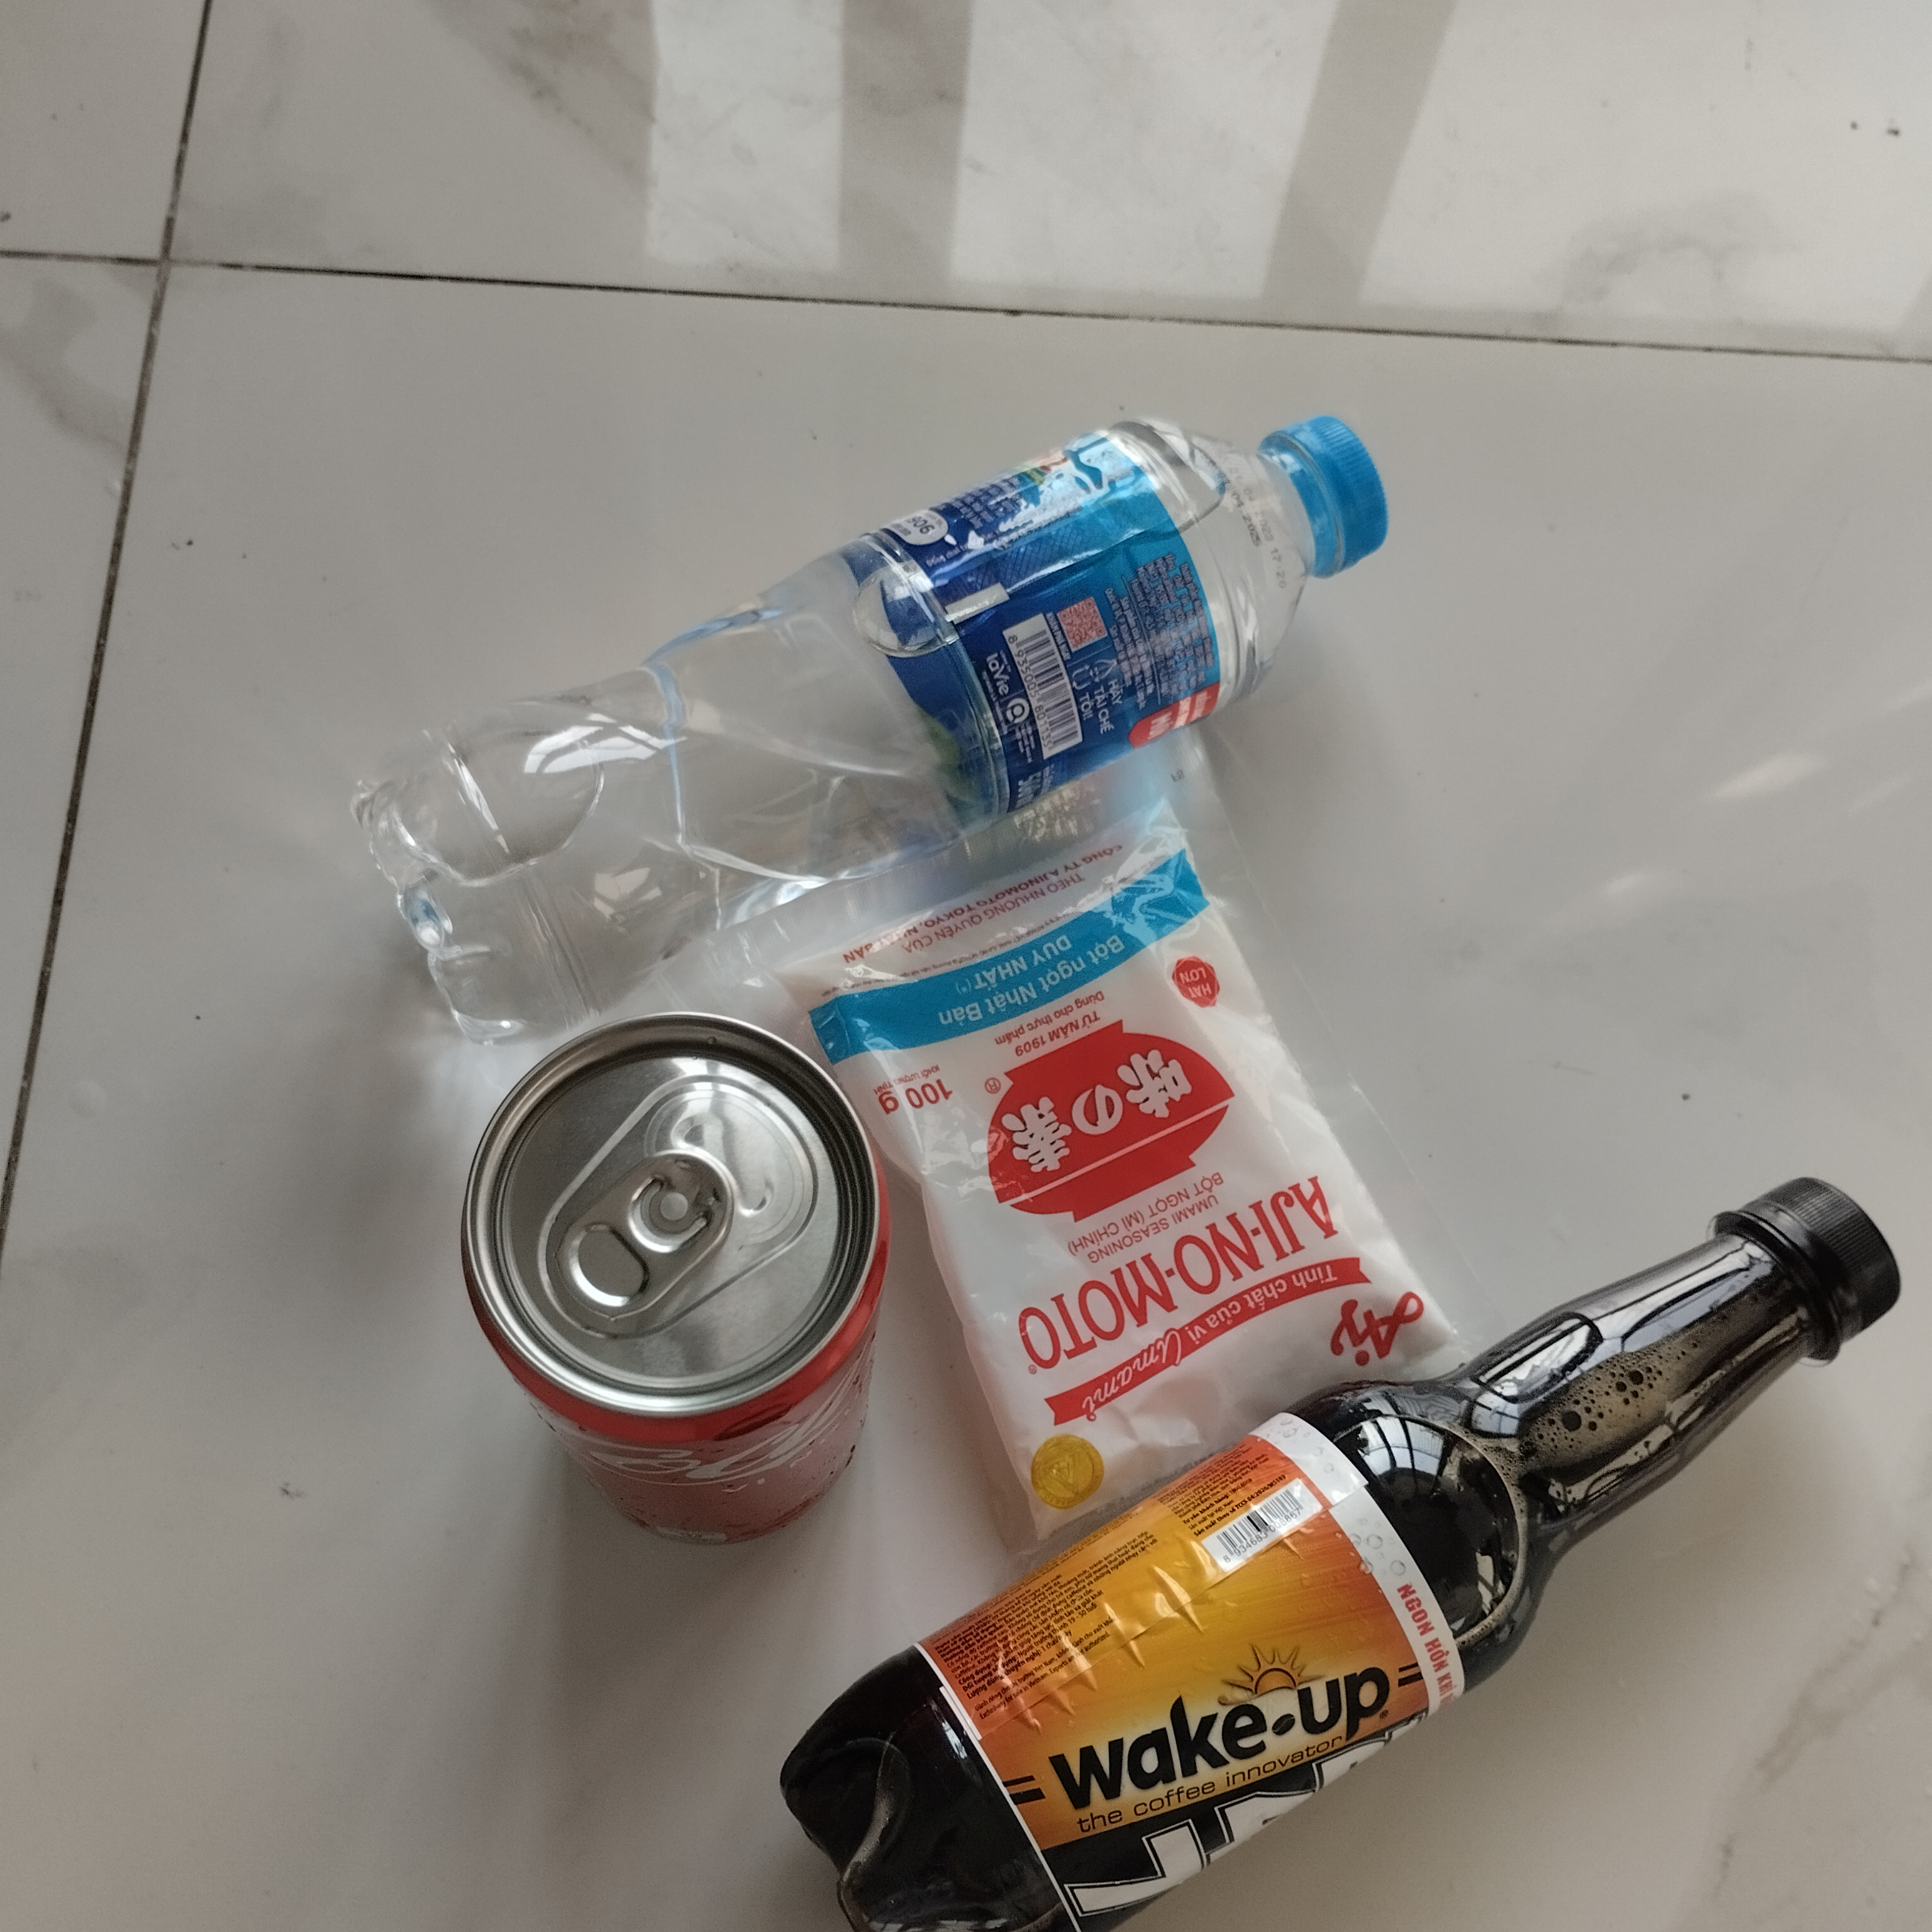247: (771, 1169, 1913, 1932)
Ajinomoto: (759, 786, 1468, 1545)
Coca: (464, 1007, 897, 1571)
Lavie: (322, 409, 1391, 1035)
